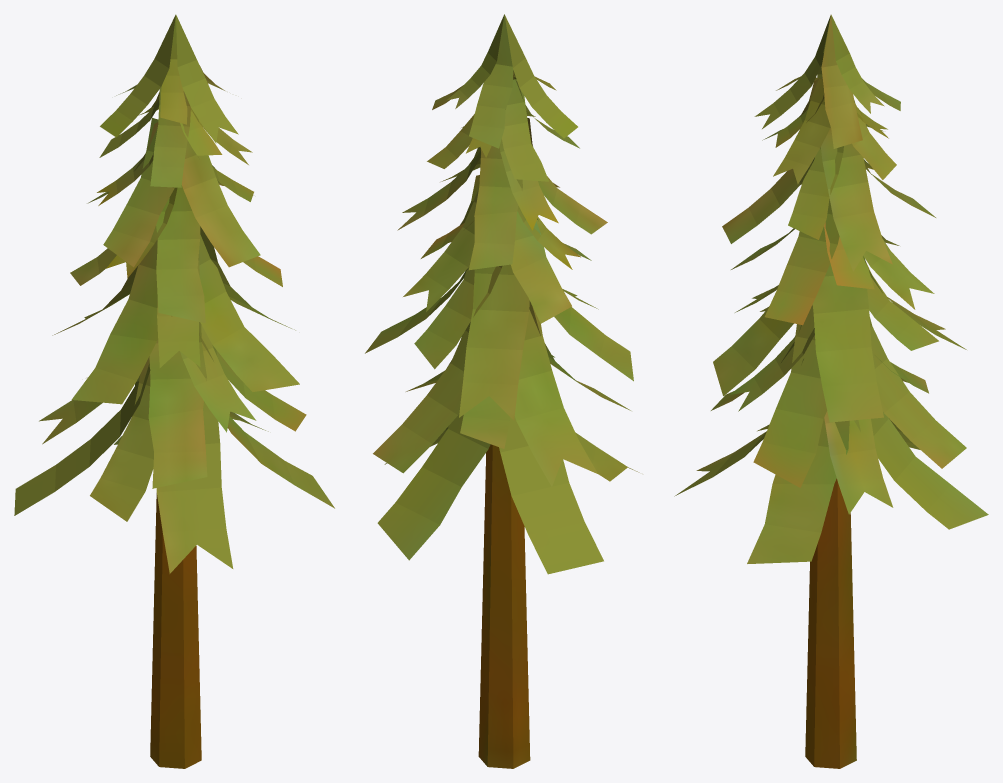
Rendered from mega-pack-cylinder-021.glb.
The picture shows the model from 3 angles, left to right: view 1: azimuth 30°, elevation 25°; view 2: azimuth 150°, elevation 25°; view 3: azimuth 270°, elevation 25°; orthographic projection.
Parts seen in each view (by area): view 1: Cylinder.021; view 2: Cylinder.021; view 3: Cylinder.021.
Boxes of the visible parts, x1,y1,x2,y2 form: Cylinder.021: (14,14,334,768); Cylinder.021: (365,14,639,768); Cylinder.021: (674,14,988,768).
Size of the model in its own units: 1.02 by 2.82 by 1.08.
1 material, 1 textured.
